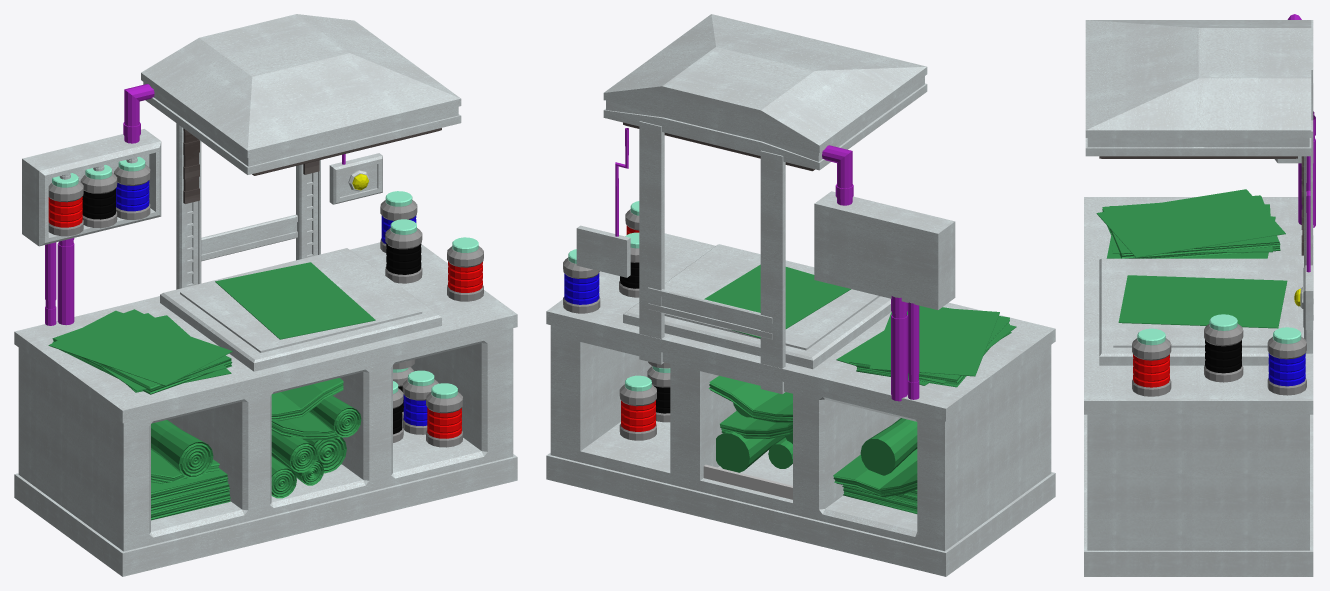
Rendered from copiadora_01.FBX.
3 renders of one model, left to right at view 1: azimuth 30°, elevation 25°; view 2: azimuth 150°, elevation 25°; view 3: azimuth 270°, elevation 25°, orthographic. The views are drawn at different scales.
Visible parts, largest first — view 1: copiadora, copiadora_pieza; view 2: copiadora; view 3: copiadora, copiadora_pieza.
Part boxes in pixels (bbox=[...]): copiadora: bbox=[14, 14, 517, 576]; copiadora_pieza: bbox=[183, 128, 441, 203]; copiadora: bbox=[546, 14, 1055, 576]; copiadora: bbox=[1084, 14, 1315, 576]; copiadora_pieza: bbox=[1099, 156, 1303, 255].
Bounding box in the file's own units: 2.07 × 2.08 × 0.9921.
